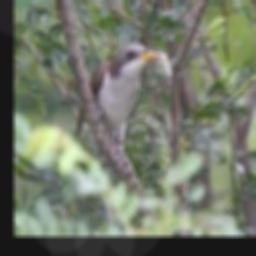Cuckoo: (76, 43, 159, 144)
